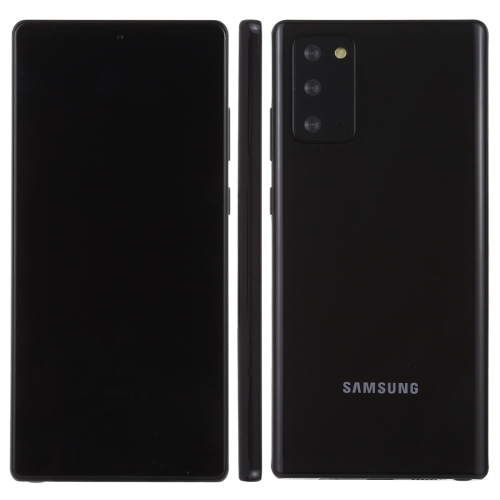Phone: (269, 18, 491, 483), (10, 18, 231, 485)
